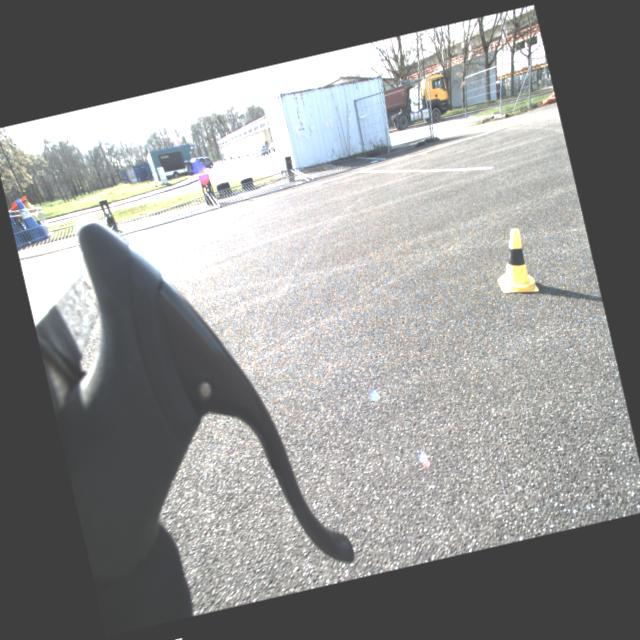blue_cone: (14, 194, 44, 234)
yellow_cone: (486, 225, 539, 299), (28, 208, 42, 226)
